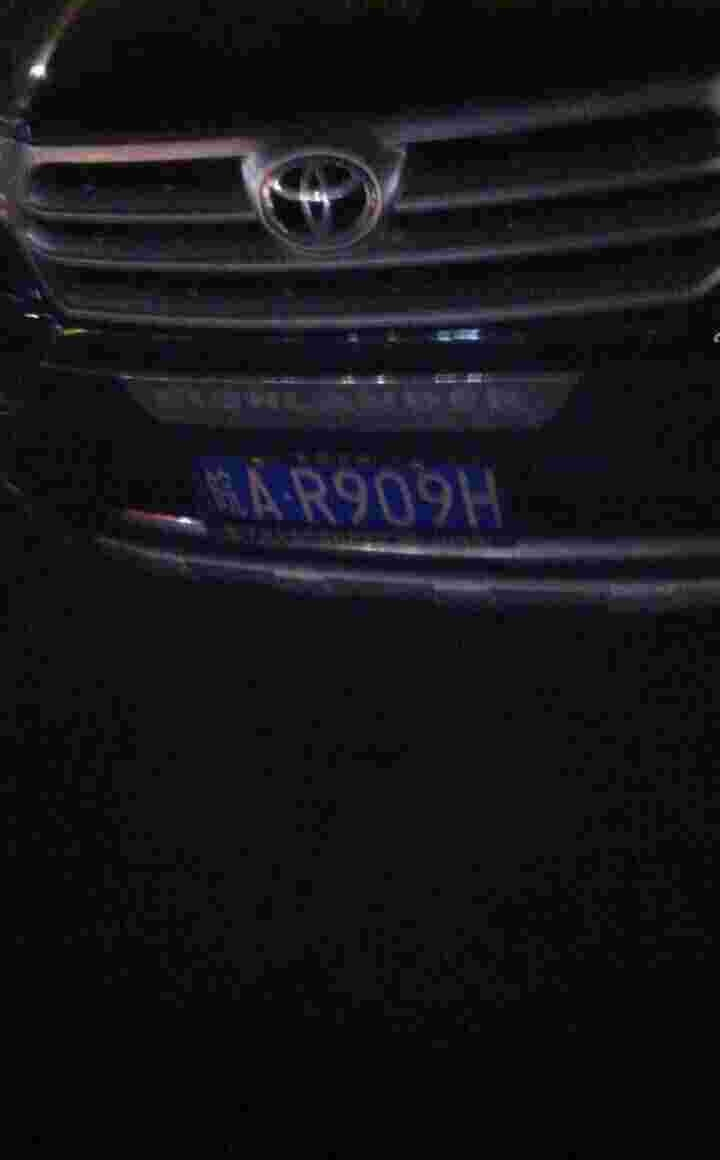license_plate: (194, 444, 513, 545)
